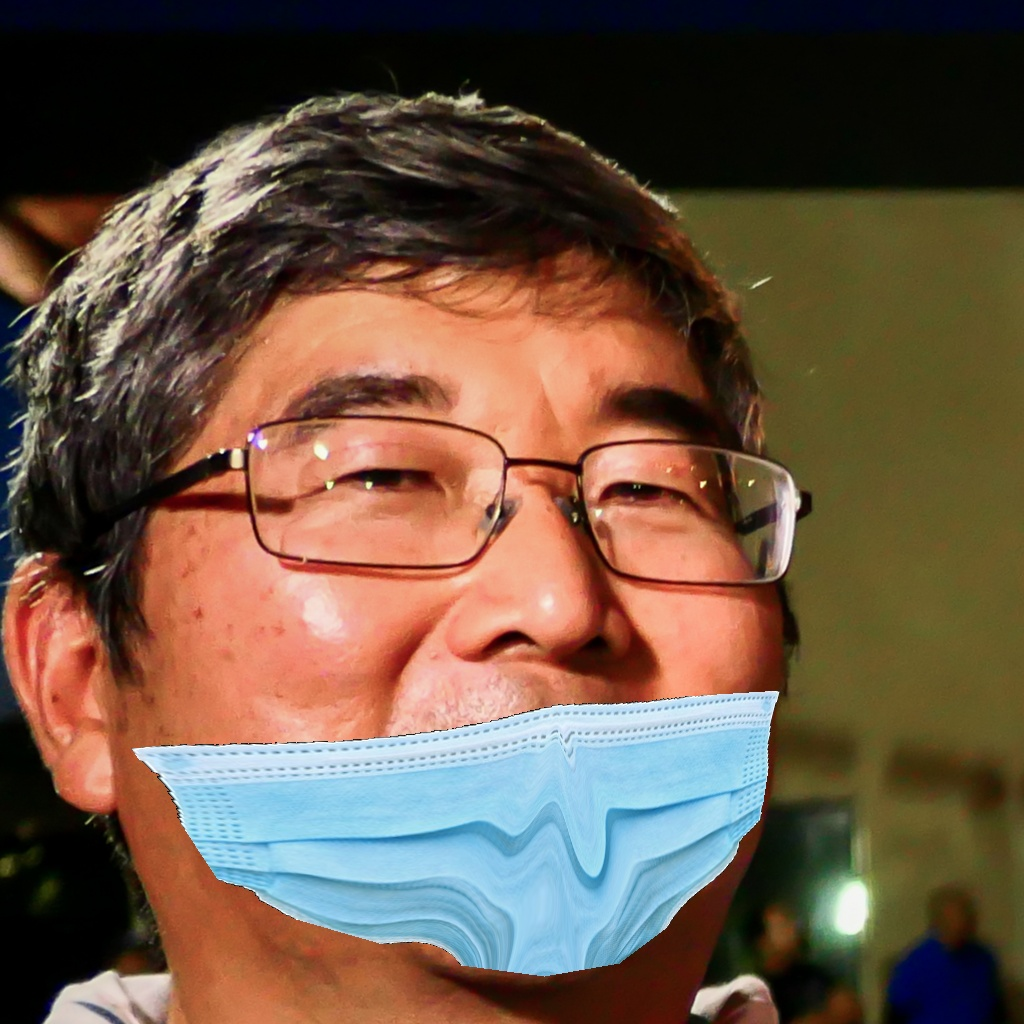mascarilla_mal_puesta: (144, 368, 824, 960)
